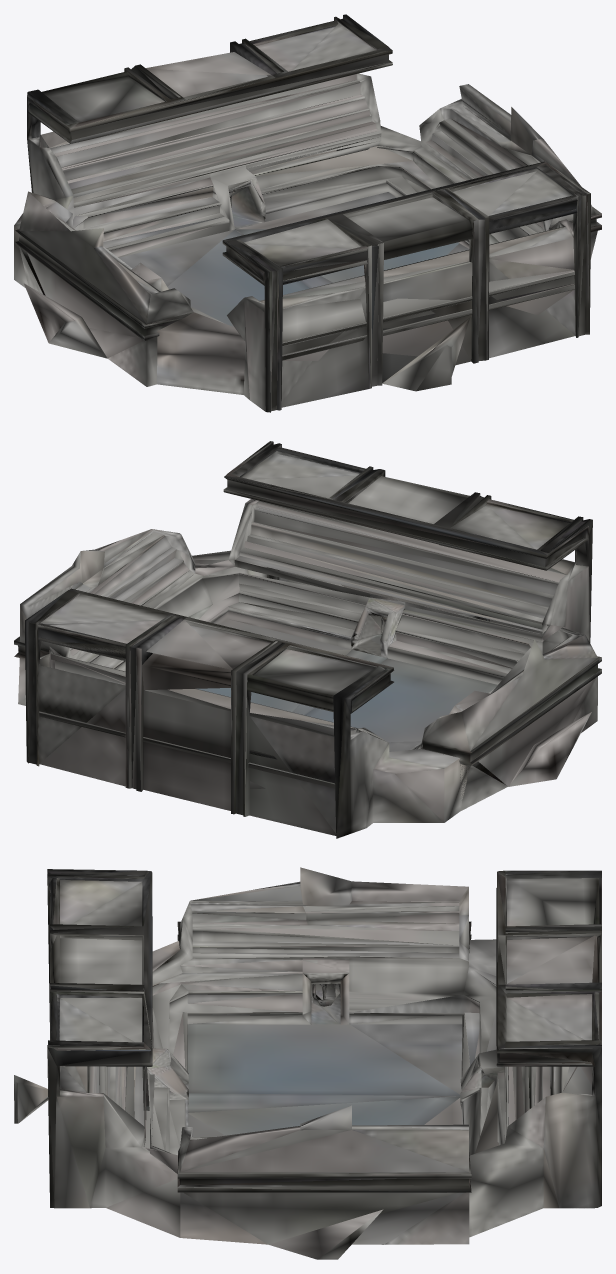
Rendered from 35-small-stadium.glb.
3 renders of one model, top to bottom at view 1: azimuth 30°, elevation 25°; view 2: azimuth 150°, elevation 25°; view 3: azimuth 270°, elevation 25°, orthographic. The views are drawn at different scales.
Visible parts, largest first — view 1: geometry_0; view 2: geometry_0; view 3: geometry_0.
Boxes of the visible parts, left/top/right/bottom form: geometry_0: left=14, top=14, right=601, bottom=412; geometry_0: left=14, top=441, right=601, bottom=838; geometry_0: left=14, top=867, right=601, bottom=1259.
Bounding box in the file's own units: 0.9492 × 0.2515 × 0.8277.
1 material, 1 textured.
